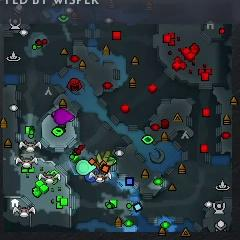p1: (85, 168, 101, 181)
p2: (76, 160, 96, 176)
p3: (54, 109, 74, 125)
x2: (96, 150, 114, 165)
